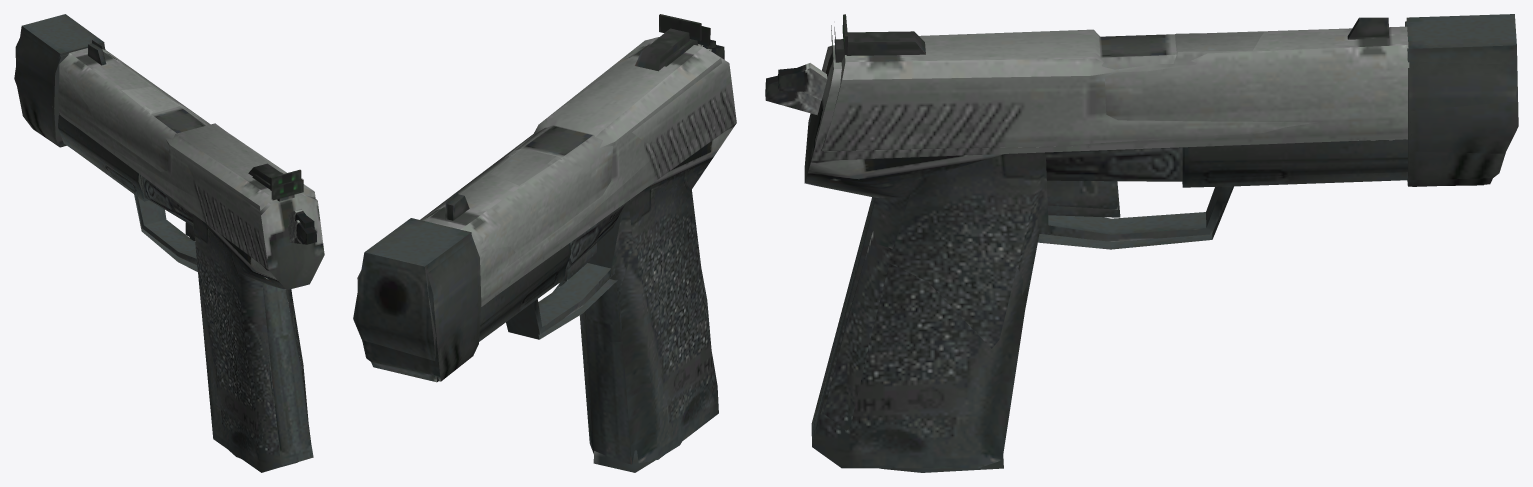
The model's file is w_Pistol.fbx.
3 views of the same model, side by side, from view 1: azimuth 30°, elevation 25°; view 2: azimuth 150°, elevation 25°; view 3: azimuth 270°, elevation 25° (orthographic). The views are drawn at different scales.
Visible parts, largest first — view 1: Pistol_Mesh_LOD, Pistol_Mesh; view 2: Pistol_Mesh_LOD, Pistol_Mesh; view 3: Pistol_Mesh_LOD, Pistol_Mesh.
Part boxes in pixels (<box>): Pistol_Mesh_LOD: <box>14,14,324,472</box>; Pistol_Mesh: <box>15,33,315,465</box>; Pistol_Mesh_LOD: <box>353,26,736,464</box>; Pistol_Mesh: <box>357,14,721,472</box>; Pistol_Mesh_LOD: <box>765,14,1518,468</box>; Pistol_Mesh: <box>778,14,1517,472</box>.
Bounding box in the file's own units: 8.47 × 33.73 × 52.68.
